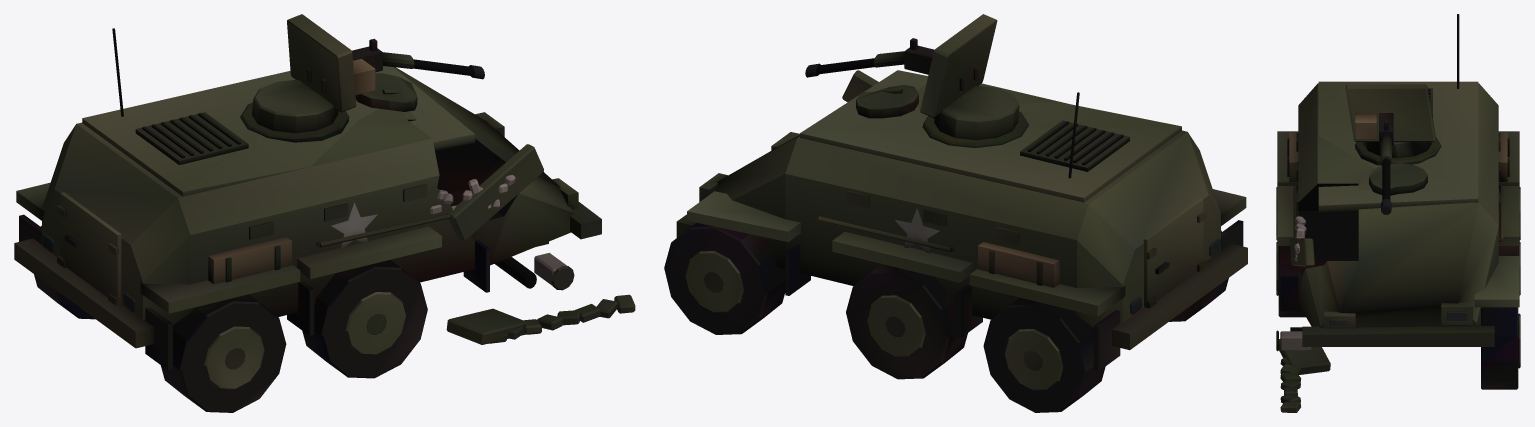
File: veh.military-apc.wrecked.glb
3 views of the same model, side by side, from view 1: azimuth 30°, elevation 25°; view 2: azimuth 150°, elevation 25°; view 3: azimuth 270°, elevation 25° (orthographic). The views are drawn at different scales.
Visible parts, largest first — view 1: body, wheelRL, wheelML, turret, gun, wheelFL, wheelRR; view 2: body, wheelFR, wheelRR, wheelMR, turret, gun, wheelRL; view 3: body, turret, wheelFR, gun, wheelML, wheelFL, wheelMR.
Boxes of the visible parts, bbox=[...] form: body: bbox=[14, 28, 635, 370]; wheelRL: bbox=[160, 294, 286, 412]; wheelML: bbox=[302, 260, 427, 378]; turret: bbox=[240, 14, 356, 142]; gun: bbox=[306, 38, 484, 95]; wheelFL: bbox=[534, 252, 574, 290]; wheelRR: bbox=[34, 225, 95, 319]; body: bbox=[676, 70, 1247, 371]; wheelFR: bbox=[664, 222, 785, 334]; wheelRR: bbox=[983, 297, 1105, 412]; wheelMR: bbox=[846, 264, 967, 379]; turret: bbox=[920, 14, 1028, 147]; gun: bbox=[805, 38, 978, 90]; wheelRL: bbox=[1169, 230, 1228, 321]; body: bbox=[1277, 14, 1519, 412]; turret: bbox=[1345, 84, 1441, 165]; wheelFR: bbox=[1481, 307, 1520, 389]; gun: bbox=[1355, 113, 1393, 214]; wheelML: bbox=[1276, 242, 1305, 317]; wheelFL: bbox=[1276, 330, 1311, 351]; wheelMR: bbox=[1498, 242, 1520, 295].
Size of the model in its own units: 5.52 by 3.28 by 3.
